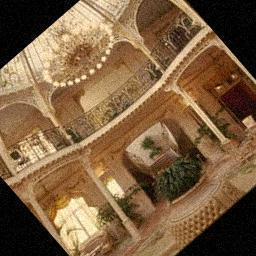Matera: (91, 178, 160, 245), (150, 155, 216, 220), (192, 112, 242, 162)
